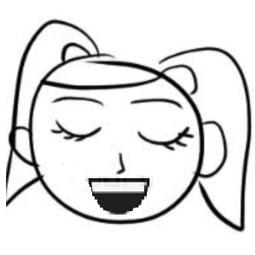closed_eye: (129, 125, 198, 153), (46, 116, 106, 145)
ear: (197, 121, 232, 185), (6, 123, 39, 161)
eyebrow: (125, 95, 184, 116), (44, 94, 105, 111)
open_mouth: (83, 173, 155, 216)
pointy_nose: (112, 146, 128, 176)
